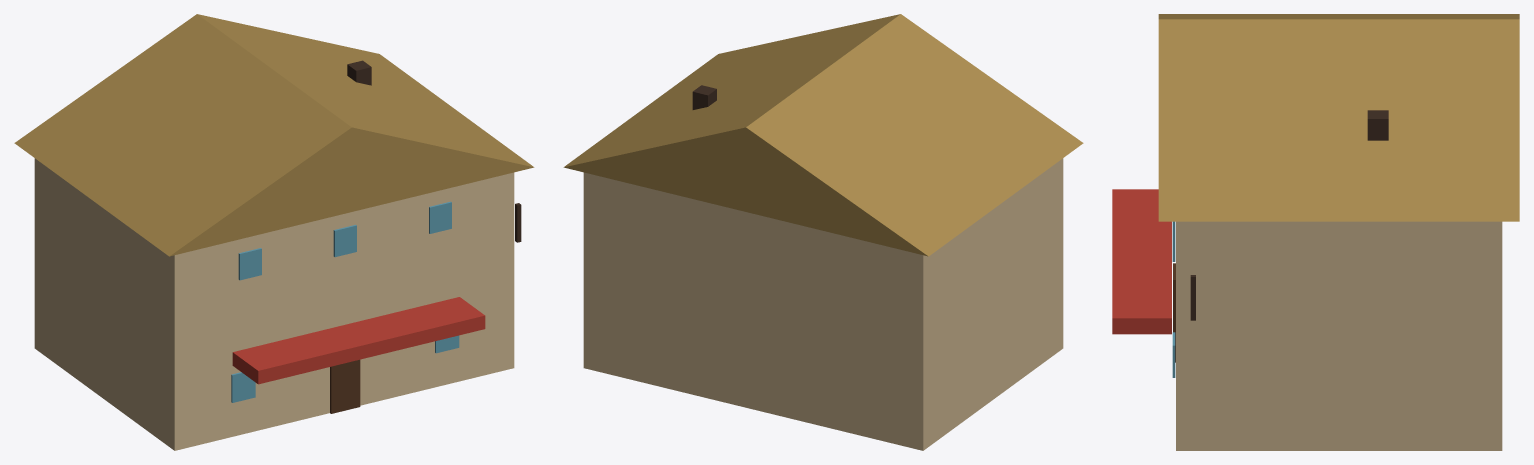
Rendered from inn.obj.
3 renders of one model, left to right at view 1: azimuth 30°, elevation 25°; view 2: azimuth 150°, elevation 25°; view 3: azimuth 270°, elevation 25°, orthographic. The views are drawn at different scales.
Visible parts, largest first — view 1: Cube; view 2: Cube; view 3: Cube.
Boxes of the visible parts, <box> form: Cube: <box>14,14,534,450</box>; Cube: <box>563,14,1083,450</box>; Cube: <box>1112,14,1519,450</box>.
Bounding box in the file's own units: 11.31 × 8.5 × 9.36.
